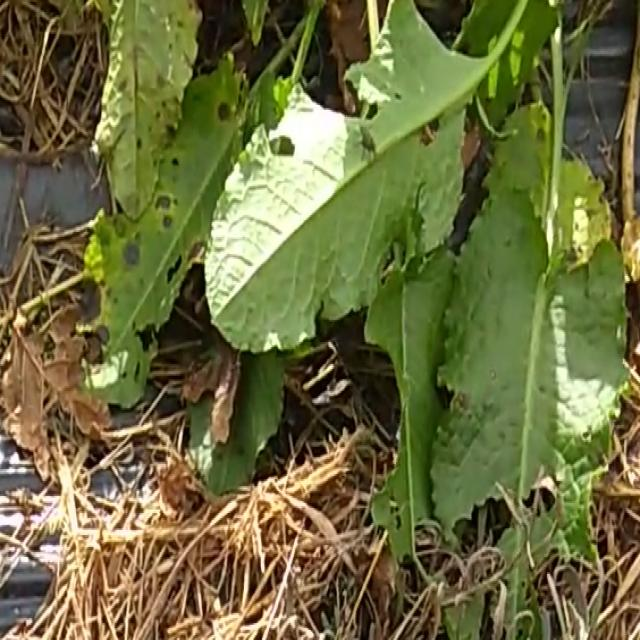organic waste: (62, 0, 640, 603)
